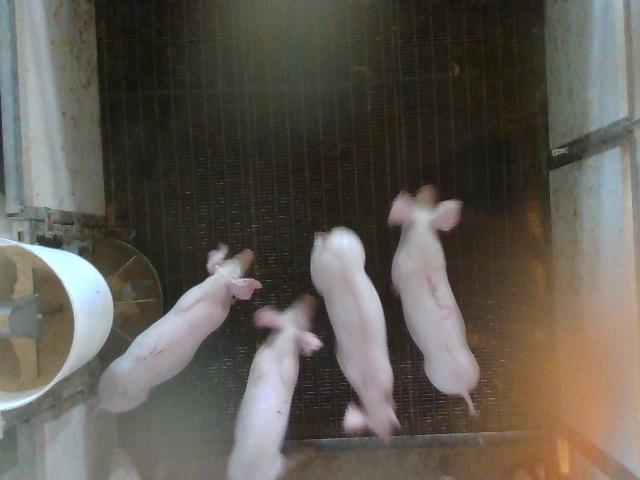pig-3: (388, 185, 479, 414)
